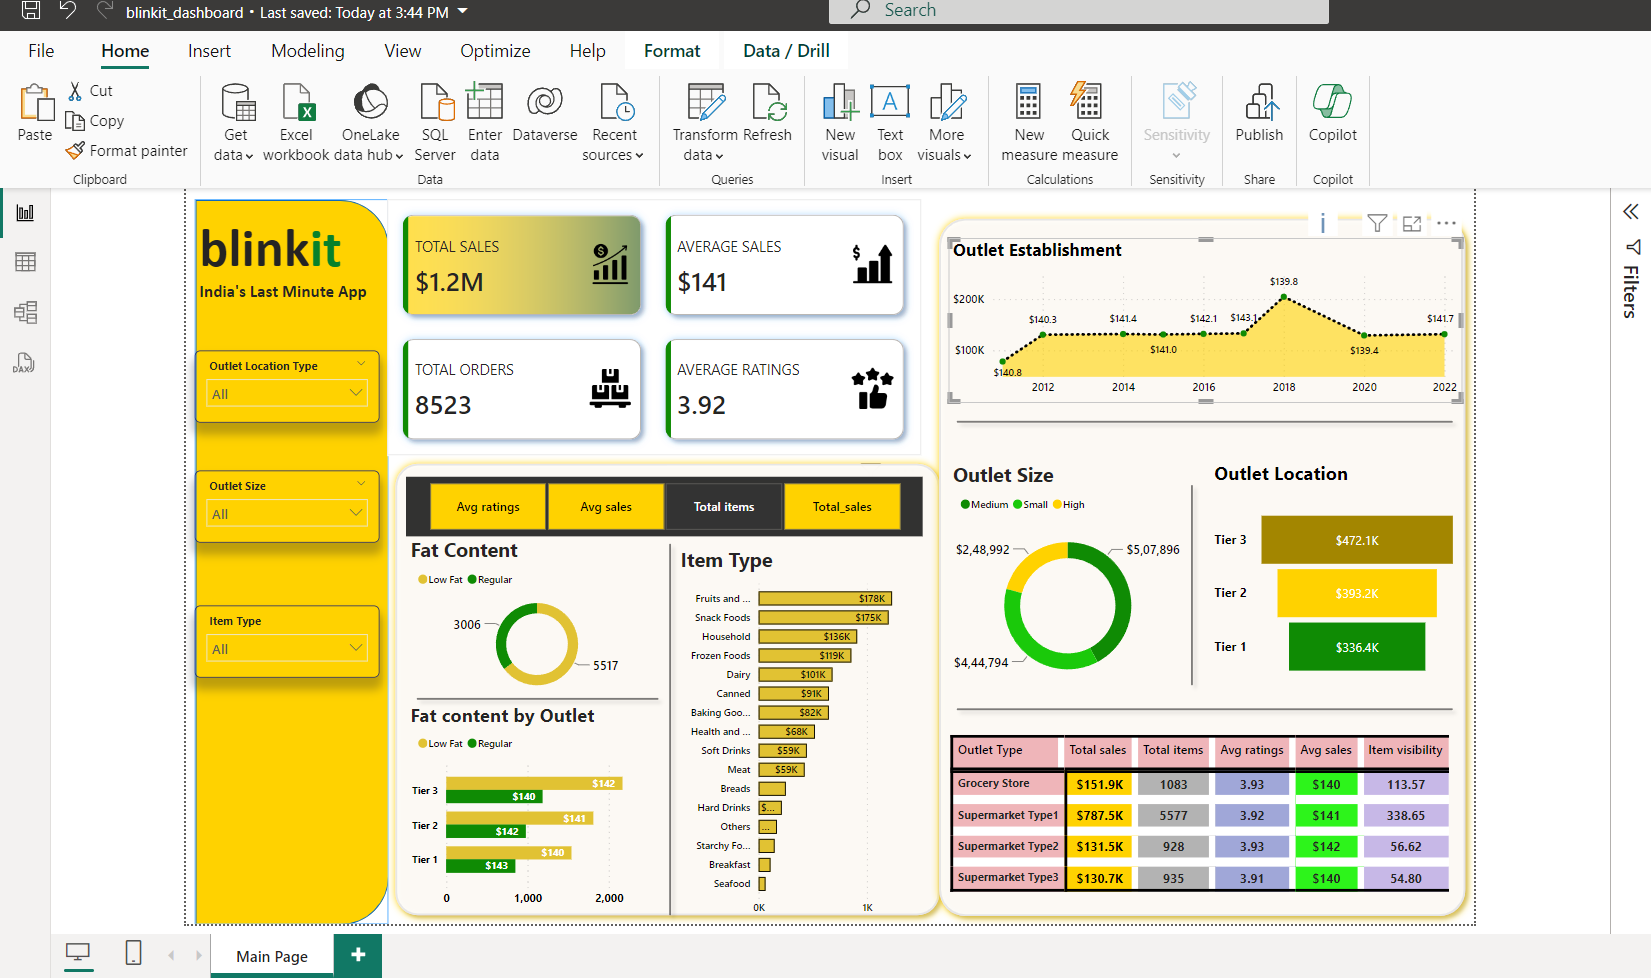

This screenshot's page, from the dashboard's own definition file:
{"tool":"powerbi","page":{"name":"Main Page","canvas":[1400,800],"ordinal":0},"visuals":[{"type":"shape","box":[9,12,210.1,788],"z":0},{"type":"textbox","box":[9,24,229.6,121.6],"z":1000},{"type":"cardVisual","fields":{"Data":["Maindata.Total_sales","Maindata.Avg sales","Maindata.Total items","Maindata.Avg ratings"]},"box":[219.1,12,579.3,279.2],"z":2000},{"type":"shape","box":[219.1,291.2,609.4,508.8],"z":3000},{"type":"donutChart","title":"Fat Content","fields":{"Y":["Maindata.Total items"],"Category":["Maindata.Item Fat Content"]},"box":[238.6,378.2,285.2,180.1],"z":4000},{"type":"slicer","fields":{"Values":["Metrics.Metrics"]},"box":[238.6,313.7,561.3,64.5],"z":5000},{"type":"clusteredBarChart","title":"Fat content by Outlet","fields":{"Y":["Maindata.Total items"],"Series":["Maindata.Item Fat Content"],"Category":["Maindata.Outlet Location Type"]},"box":[238.6,558.3,294.2,231.1],"z":6000},{"type":"textbox","box":[838,12,562,279],"z":7000},{"type":"shape","box":[241.6,531.3,280.7,48],"z":8000},{"type":"shape","box":[385.7,378.2,280.7,421.7],"z":9000},{"type":"barChart","title":"Item Type","fields":{"Y":["Maindata.Total items"],"Category":["Maindata.Item Type"]},"box":[532.8,388.7,277.7,411.2],"z":10000},{"type":"shape","box":[810.5,24,589.8,775.9],"z":11000},{"type":"lineChart","title":"Outlet Establishment","fields":{"Y":["Maindata.Total_sales"],"Category":["Maindata.Outlet Establishment Year"]},"box":[828.5,54,558.3,180.1],"z":12000},{"type":"donutChart","title":"Outlet Size","fields":{"Category":["Maindata.Outlet Size"],"Y":["Maindata.Total_sales"]},"box":[828.5,295.7,259.6,259.6],"z":13000},{"type":"shape","box":[1061.1,313.7,64.5,235.6],"z":14000},{"type":"funnel","title":"Outlet Location","fields":{"Y":["Maindata.Total_sales"],"Category":["Maindata.Outlet Location Type"]},"box":[1112.8,296.2,274.5,262.2],"z":15000},{"type":"shape","box":[828.8,546.2,557.1,40.8],"z":16000},{"type":"pivotTable","fields":{"Rows":["Maindata.Outlet Type"],"Values":["Maindata.Total_sales","Maindata.Total items","Maindata.Avg ratings","Maindata.Avg sales","Sum(Maindata.Item Visibility)"]},"box":[826.1,589.7,573.4,202.4],"z":17000},{"type":"shape","box":[828.8,233.7,557.1,40.8],"z":17001},{"type":"slicer","fields":{"Values":["Maindata.Outlet Location Type"]},"box":[9,177.1,201.1,78],"z":17002},{"type":"slicer","fields":{"Values":["Maindata.Outlet Size"]},"box":[9,307.7,201.1,78],"z":17003},{"type":"slicer","fields":{"Values":["Maindata.Item Type"]},"box":[9,453.3,201.1,78],"z":17004}]}

Visuals, with their boxes on the page's 1400x800 design canvas (x1, y1, x2, y2). These are canvas units, not pixel positions in the 1651x978 screenshot, which may show the page scaled, cropped or inside an application window:
shape: detection(9, 12, 219, 800)
textbox: detection(9, 24, 239, 146)
cardVisual - Maindata.Total_sales x Maindata.Avg sales: detection(219, 12, 798, 291)
shape: detection(219, 291, 828, 800)
"Fat Content" donutChart: detection(239, 378, 524, 558)
slicer - Metrics.Metrics: detection(239, 314, 800, 378)
"Fat content by Outlet" clusteredBarChart: detection(239, 558, 533, 789)
textbox: detection(838, 12, 1400, 291)
shape: detection(242, 531, 522, 579)
shape: detection(386, 378, 666, 800)
"Item Type" barChart: detection(533, 389, 810, 800)
shape: detection(810, 24, 1400, 800)
"Outlet Establishment" lineChart: detection(828, 54, 1387, 234)
"Outlet Size" donutChart: detection(828, 296, 1088, 555)
shape: detection(1061, 314, 1126, 549)
"Outlet Location" funnel: detection(1113, 296, 1387, 558)
shape: detection(829, 546, 1386, 587)
pivotTable - Maindata.Outlet Type x Maindata.Total_sales: detection(826, 590, 1400, 792)
shape: detection(829, 234, 1386, 274)
slicer - Maindata.Outlet Location Type: detection(9, 177, 210, 255)
slicer - Maindata.Outlet Size: detection(9, 308, 210, 386)
slicer - Maindata.Item Type: detection(9, 453, 210, 531)
